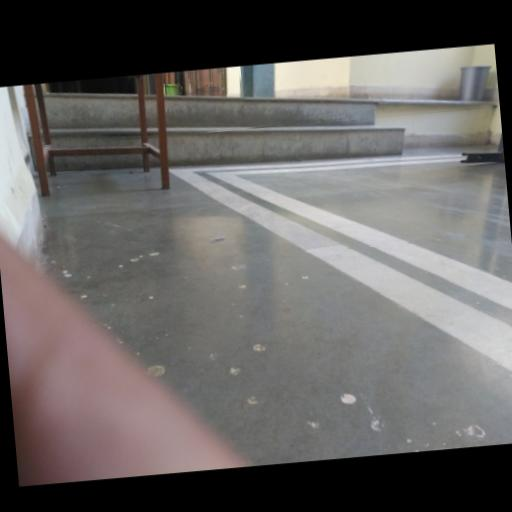stairs: (165, 97, 405, 166)
